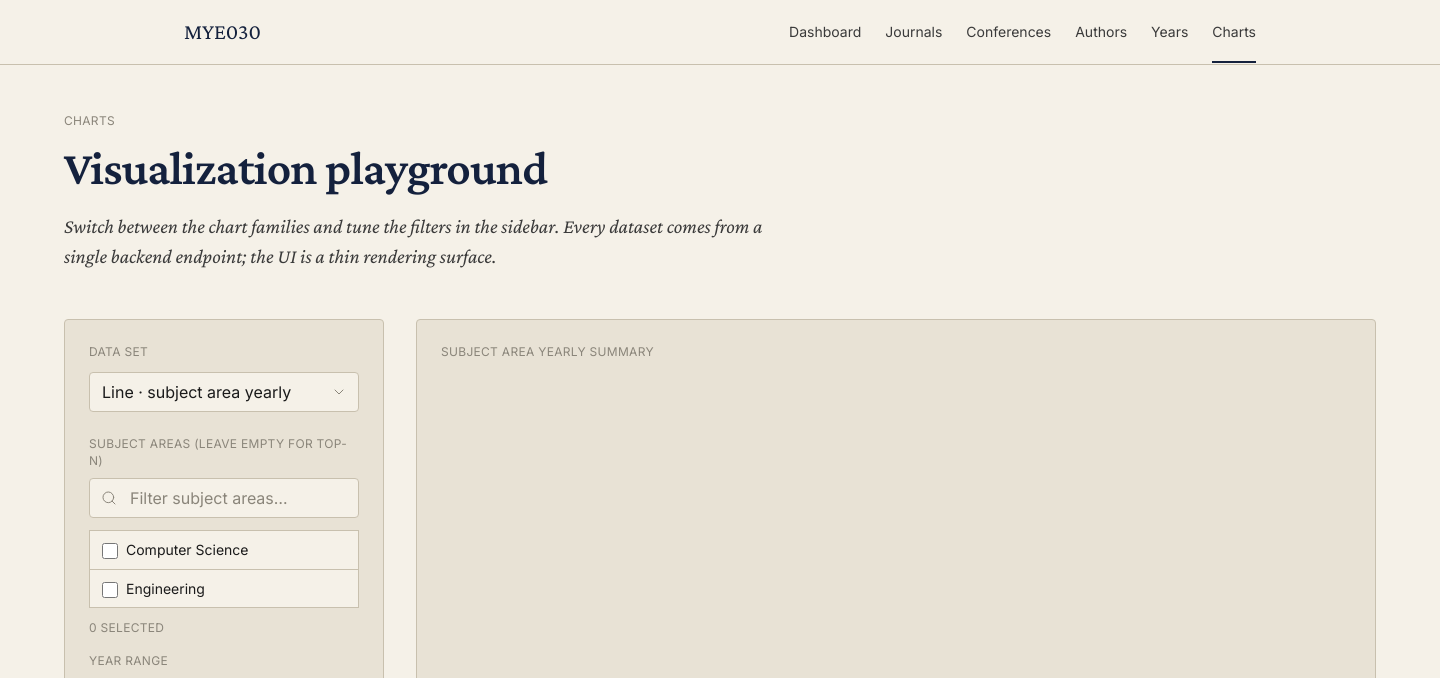
Test: /charts playground › switches to the field-of-research line chart
The width and height of the screenshot is (1440, 678).
Select "Line · Field of Research yearly" in the dropdown named "chart type" at (224, 392), box [89,372,359,412]
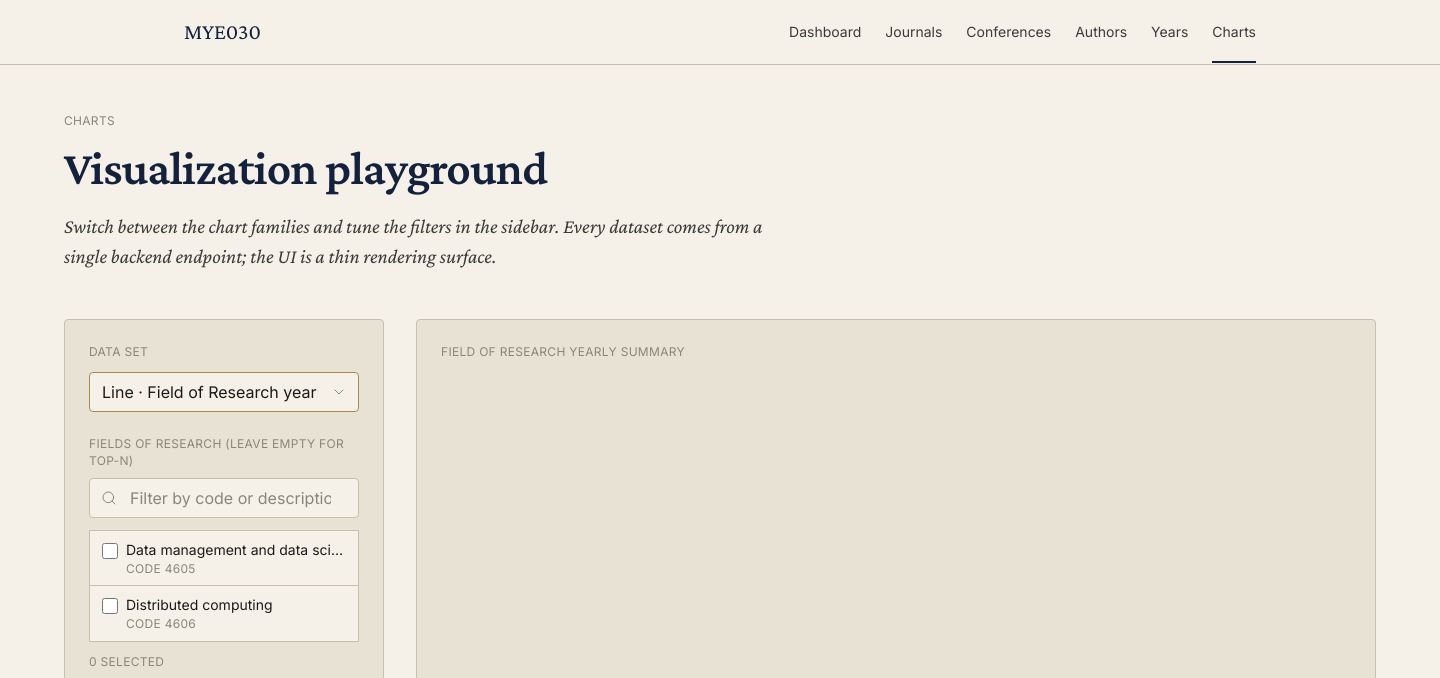
Result: the text "Field of Research yearly summary" is shown at [441,344,685,360]
